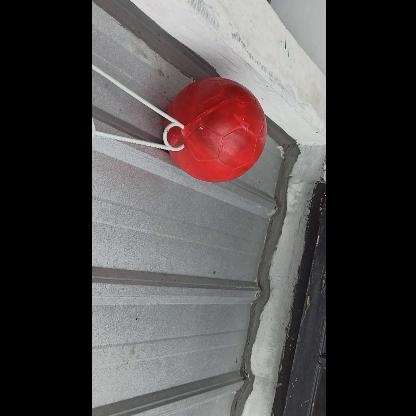red_ball: (162, 78, 268, 184)
